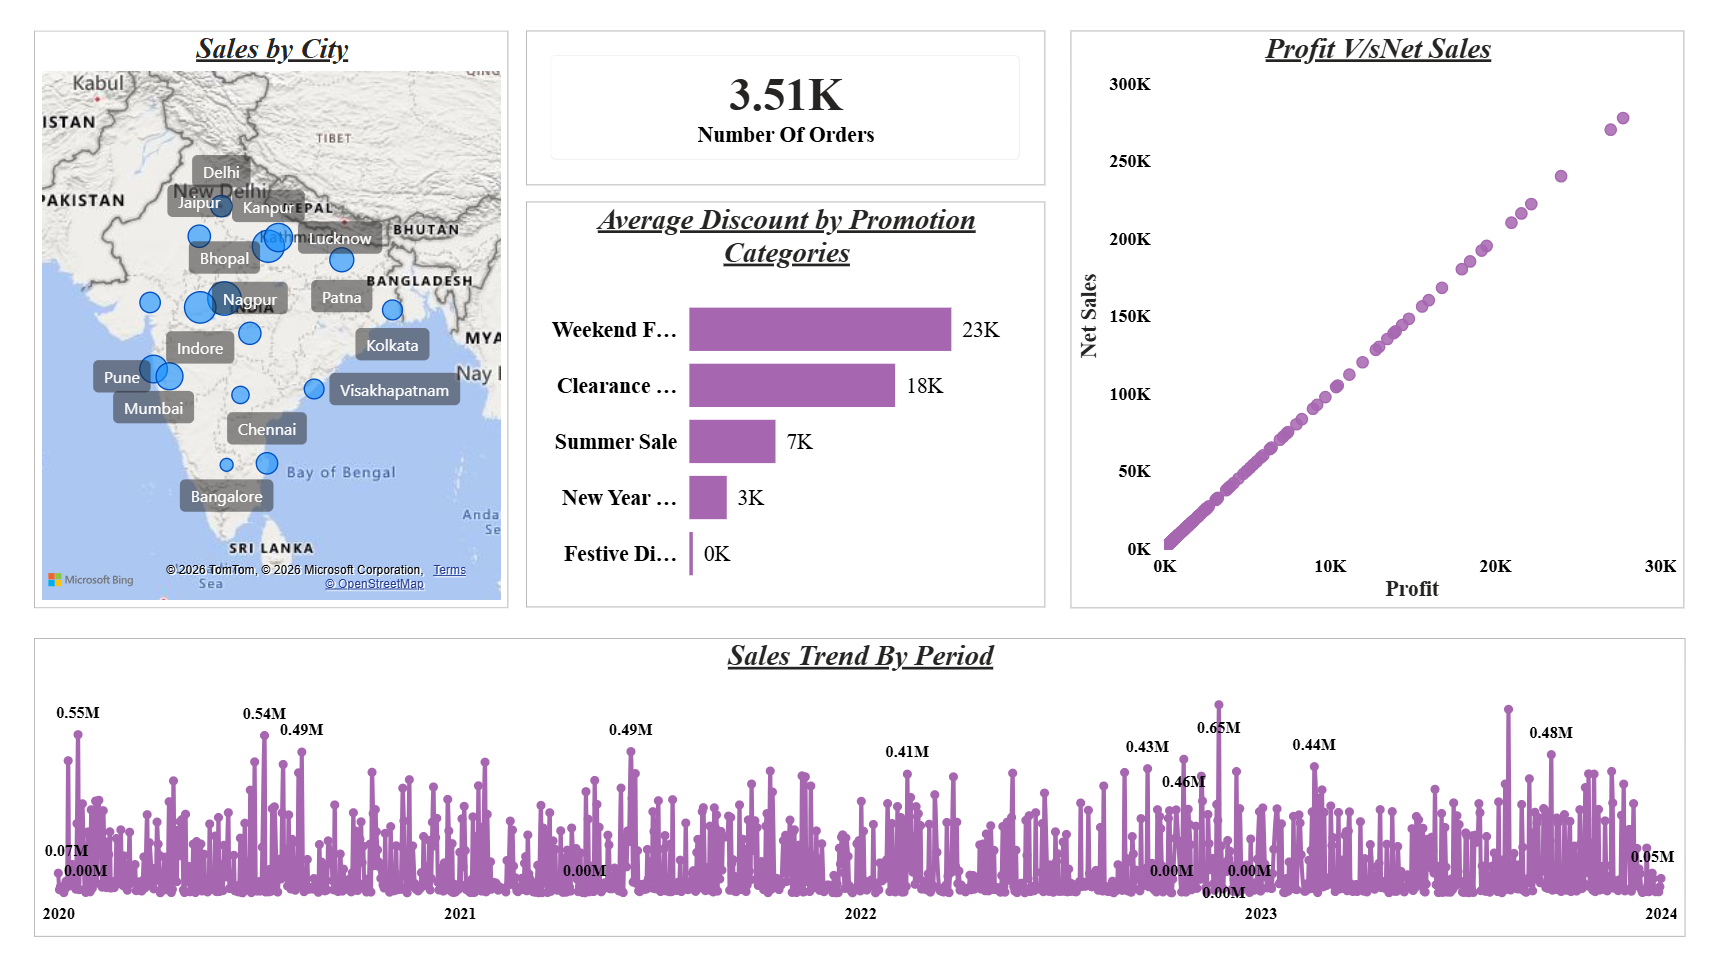

The dashboard page shown, as its layout file describes it:
{"tool":"powerbi","page":{"name":"Overview","canvas":[1280,720],"ordinal":0},"visuals":[{"type":"lineChart","title":"Sales Trend By Period","fields":{"Category":["Fact Table.Date (dd/mm/yyyy).Variation.Date Hierarchy.Year"],"Y":["Sum(Fact Table.Net Sales  )"]},"box":[22.3,475.6,1223.2,221.1],"z":0},{"type":"scatterChart","title":"Profit V/sNet Sales  ","fields":{"X":["Fact Table.Profit"],"Y":["Fact Table.Net Sales  "]},"box":[790.5,25.4,454.9,427.9],"z":1000},{"type":"barChart","title":"Average Discount by Promotion Categories","fields":{"Category":["Dim Promotion.Promotion Name"],"Y":["Avg(Fact Table.Discount)"]},"box":[386.5,152.7,384.9,300.6],"z":2000},{"type":"map","title":"Sales by City","fields":{"Category":["Dim Customers.City"],"Size":["Sum(Fact Table.Net Sales  )"]},"box":[22.3,25.4,351.5,427.9],"z":3000},{"type":"cardVisual","fields":{"Data":["Count(Fact Table.OrderID)"]},"box":[386.5,25.4,384.9,114.5],"z":4000}]}

Visuals, with their boxes in screenshot pixels (x1, y1, x2, y2), scaled from the page's 1280x720 canvas onto the 1732x967 screenshot:
"Sales Trend By Period" lineChart: <bbox>30, 639, 1685, 936</bbox>
"Profit V/sNet Sales  " scatterChart: <bbox>1070, 34, 1685, 609</bbox>
"Average Discount by Promotion Categories" barChart: <bbox>523, 205, 1044, 609</bbox>
"Sales by City" map: <bbox>30, 34, 506, 609</bbox>
cardVisual - Count(Fact Table.OrderID): <bbox>523, 34, 1044, 188</bbox>
